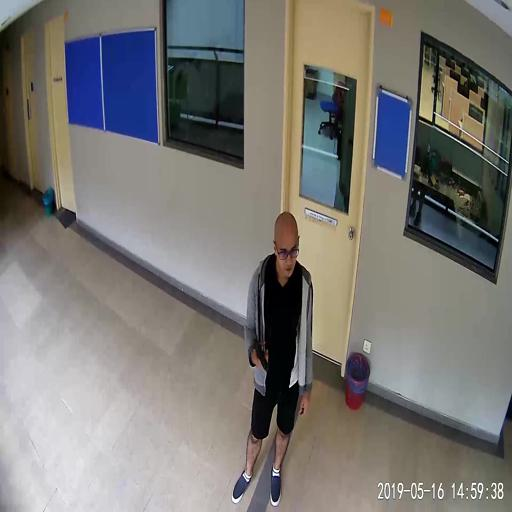pistol: (254, 339, 268, 371)
